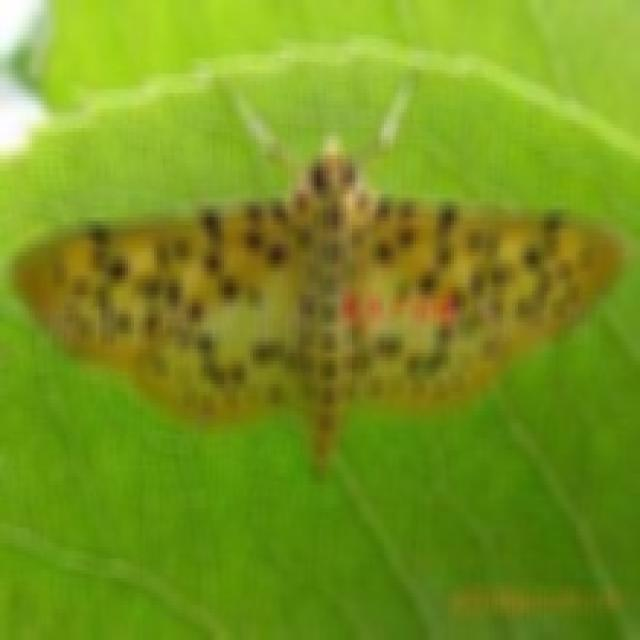peach borer: (8, 131, 628, 476)
